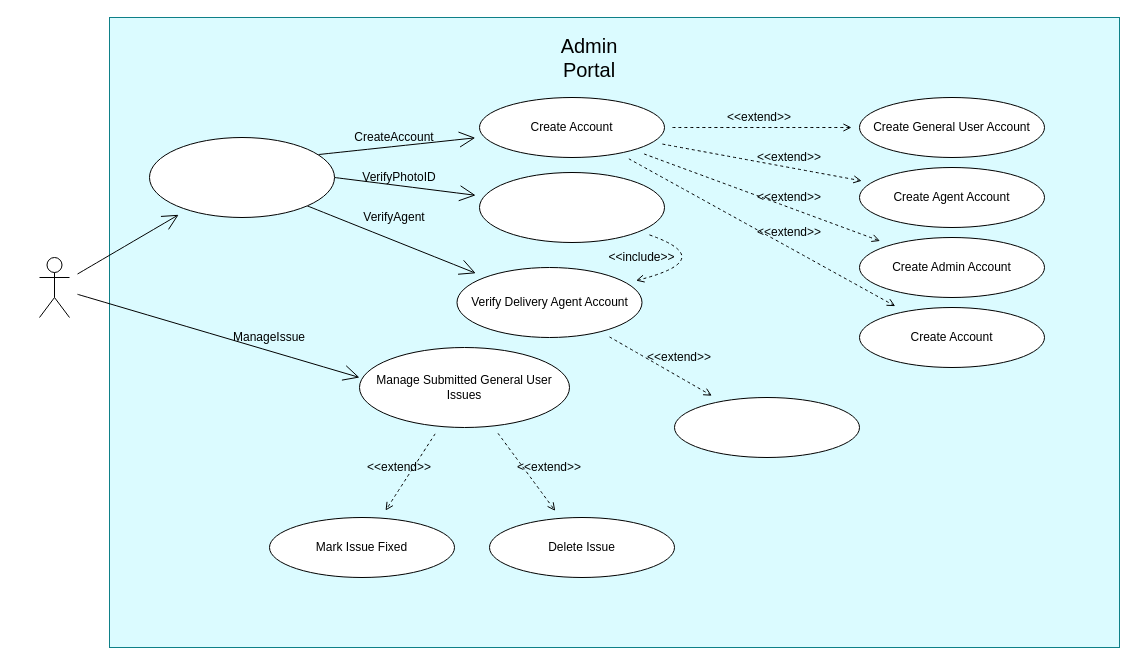
This 1137x665 diagram has some shape labels left out. Here are the shapes that lost their labels. From the top down, the centre of each, then its label:
At (241,177): "Manage Accounts".
At (571,207): "Verify General User Photo ID".
At (54,287): "Administrative User".
At (767,427): "Mark Incomplete Account".
